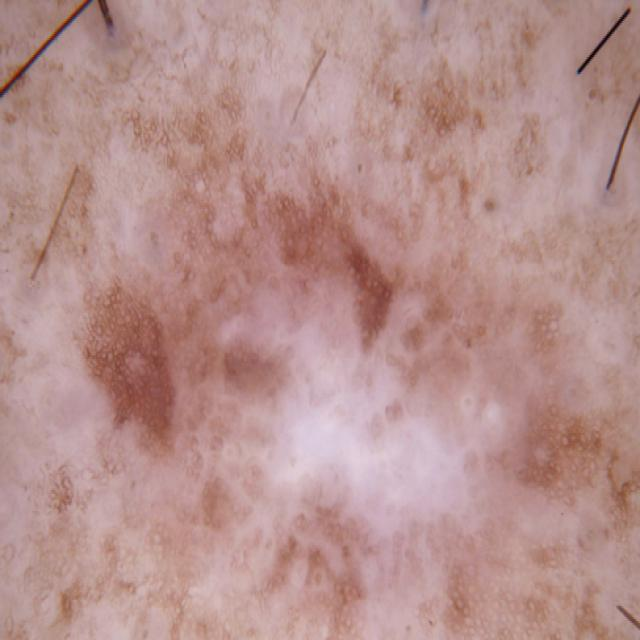Dermatofibroma: (53, 119, 610, 633)
